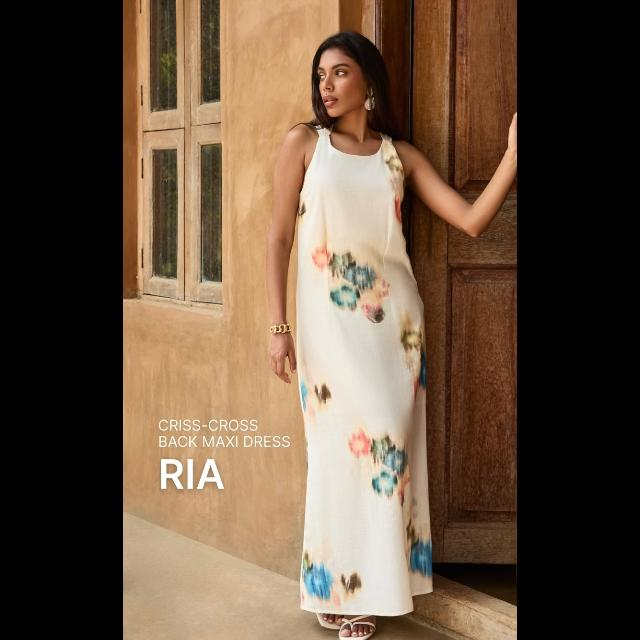dress: (300, 123, 430, 613)
ear ring: (364, 93, 378, 113)
shoes: (322, 612, 376, 640)
